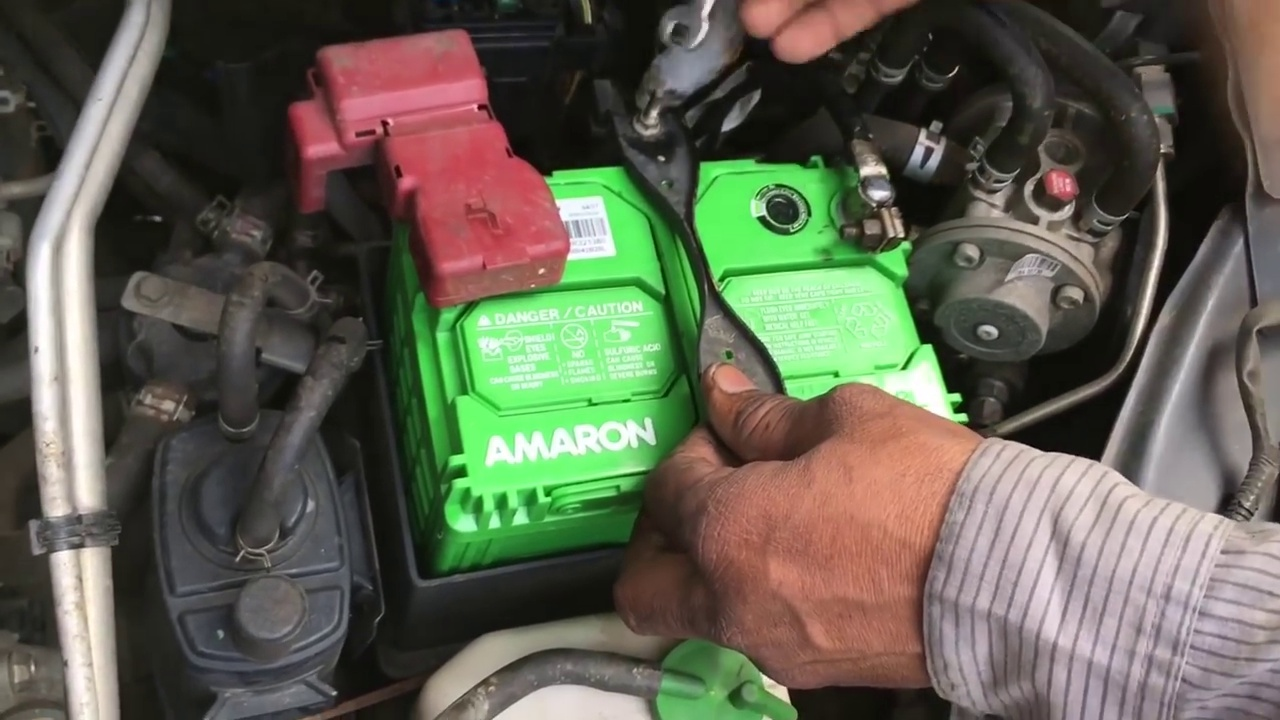battery: (333, 107, 990, 546)
neg_connected: (803, 100, 915, 273)
pos_connected: (288, 63, 578, 310)
